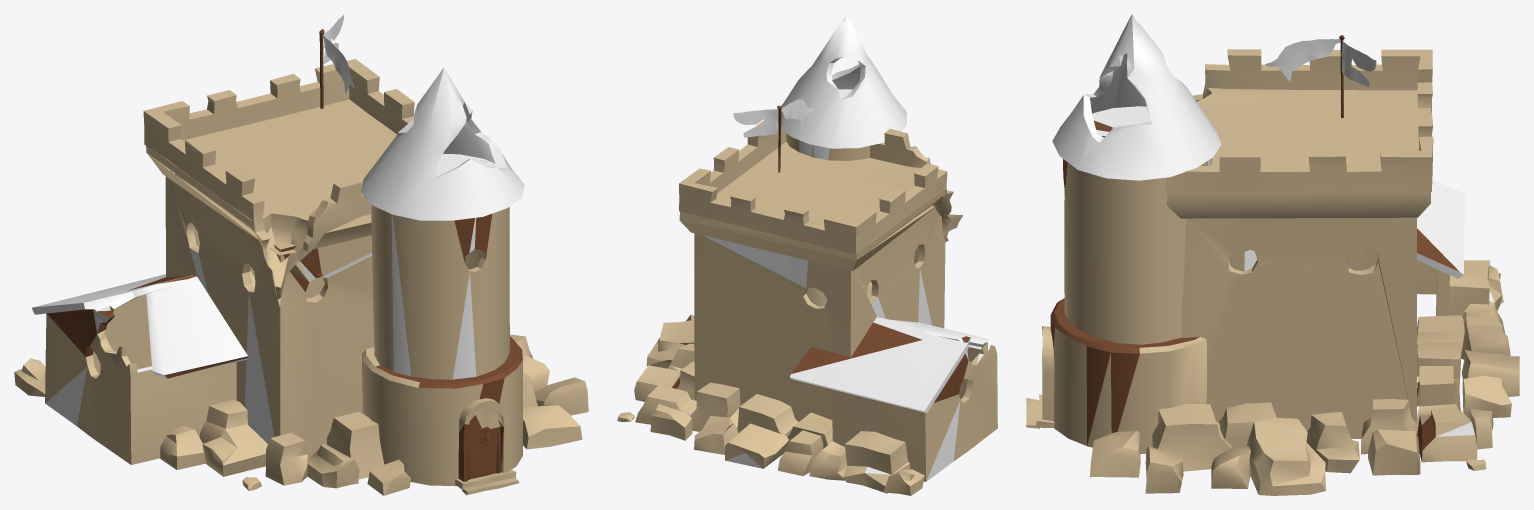
File: castle_d2.6.glb
3 renders of one model, left to right at view 1: azimuth 30°, elevation 25°; view 2: azimuth 150°, elevation 25°; view 3: azimuth 270°, elevation 25°, orthographic. The views are drawn at different scales.
Visible parts, largest first — view 1: castle; view 2: castle; view 3: castle.
Part boxes in pixels (x1,y1,x2,y2): castle: (14, 14, 588, 495); castle: (617, 14, 997, 495); castle: (1026, 14, 1519, 495).
Size of the model in its own units: 2.9 by 2.63 by 2.9.
